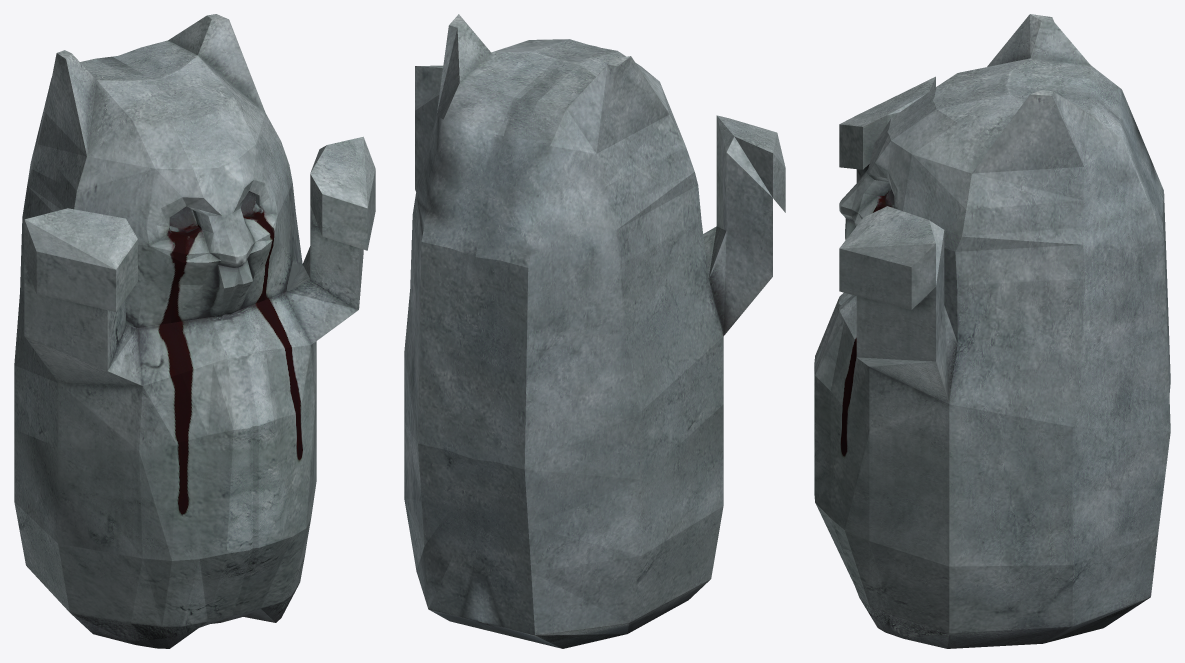
File: Meshy_AI_manekineko01_0729110715_texture.fbx
The picture shows the model from 3 angles, left to right: view 1: azimuth 30°, elevation 25°; view 2: azimuth 150°, elevation 25°; view 3: azimuth 270°, elevation 25°; orthographic projection. The views are drawn at different scales.
Parts seen in each view (by area): view 1: mesh_node; view 2: mesh_node; view 3: mesh_node.
Boxes of the visible parts, left/top/right/bottom form: mesh_node: left=14, top=14, right=375, bottom=648; mesh_node: left=404, top=14, right=785, bottom=648; mesh_node: left=814, top=14, right=1170, bottom=648.
Bounding box in the file's own units: 131 × 200 × 118.
1 material, 1 textured.
